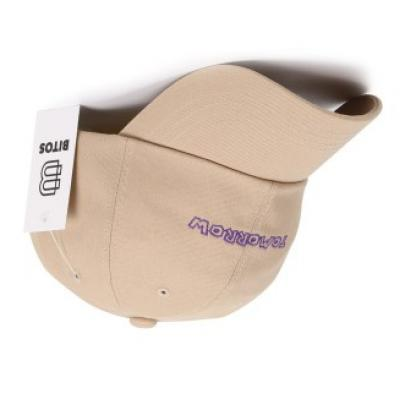cap: (19, 61, 392, 338)
